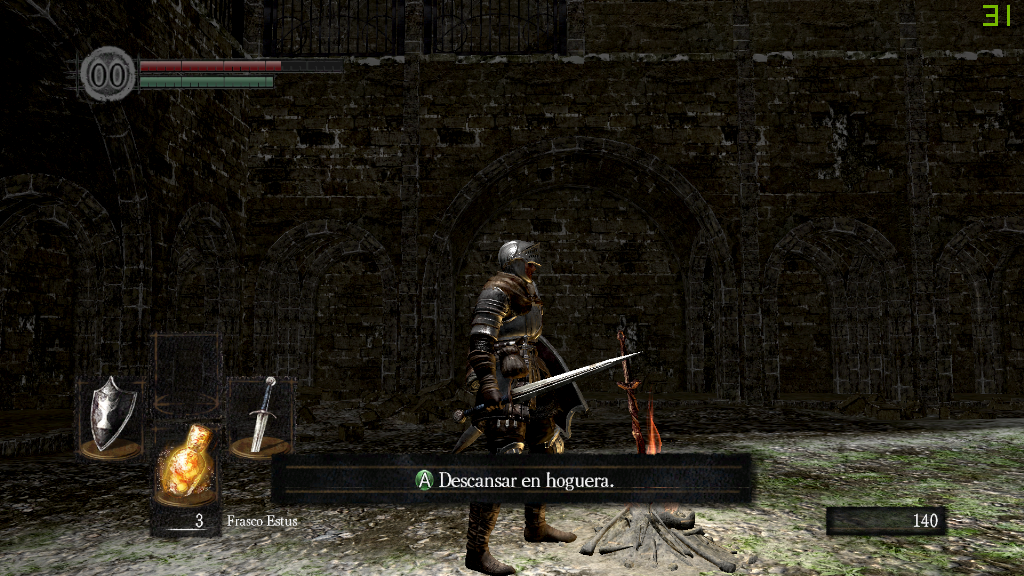bonfire: (579, 329, 738, 576)
dialogBox: (272, 455, 753, 503)
health: (138, 58, 343, 71)
humanity: (80, 45, 136, 102)
player: (452, 238, 644, 576)
souls: (825, 506, 945, 536)
stamina: (138, 74, 274, 88)
